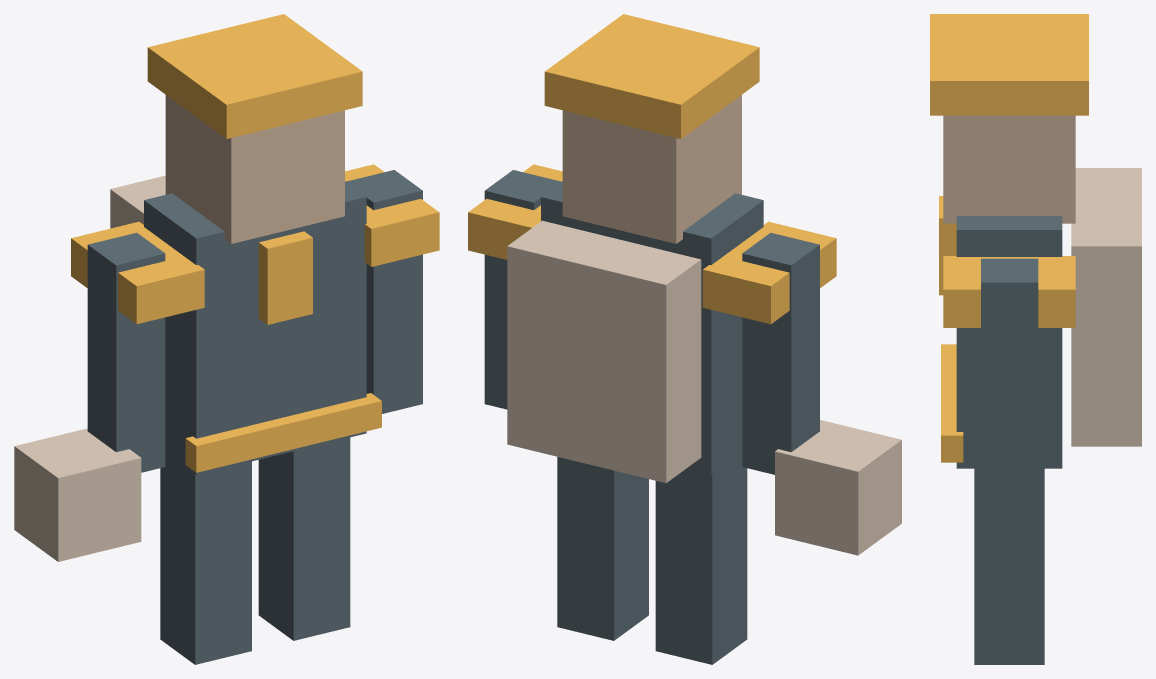
File: 20_draven_gantryn_sentinel_at_freight.glb
3 renders of one model, left to right at view 1: azimuth 30°, elevation 25°; view 2: azimuth 150°, elevation 25°; view 3: azimuth 270°, elevation 25°, orthographic.
Visible parts, largest first — view 1: Draven Gantryn, Sentinel at Freight; view 2: Draven Gantryn, Sentinel at Freight; view 3: Draven Gantryn, Sentinel at Freight.
Boxes of the visible parts, left/top/right/bottom form: Draven Gantryn, Sentinel at Freight: left=14, top=14, right=439, bottom=664; Draven Gantryn, Sentinel at Freight: left=468, top=14, right=901, bottom=664; Draven Gantryn, Sentinel at Freight: left=930, top=14, right=1141, bottom=664.
Bounding box in the file's own units: 1.07 × 1.55 × 0.5153.
